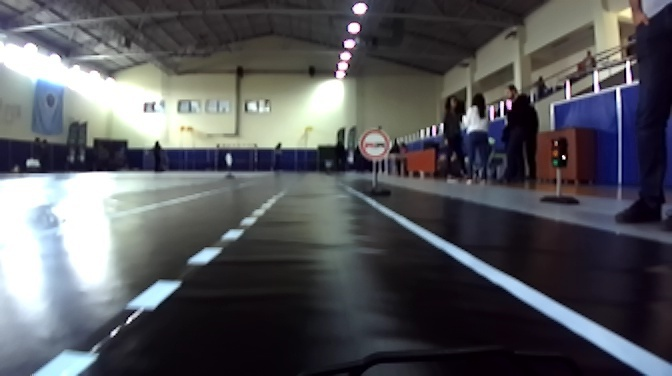sollama_yasak: (357, 129, 390, 160)
